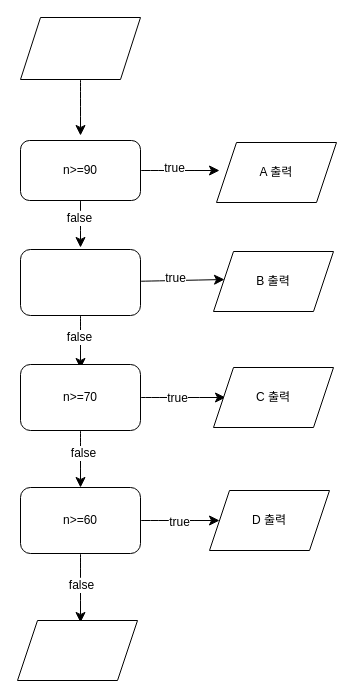
The diagram is 354 pixels wide and 698 high, and some of its shapes have lost their labels. Each missing label, with the centre of its shape:
"F 출력" goes at point 77,650.
"n>=80" goes at point 80,282.
"입력 n" goes at point 80,48.
